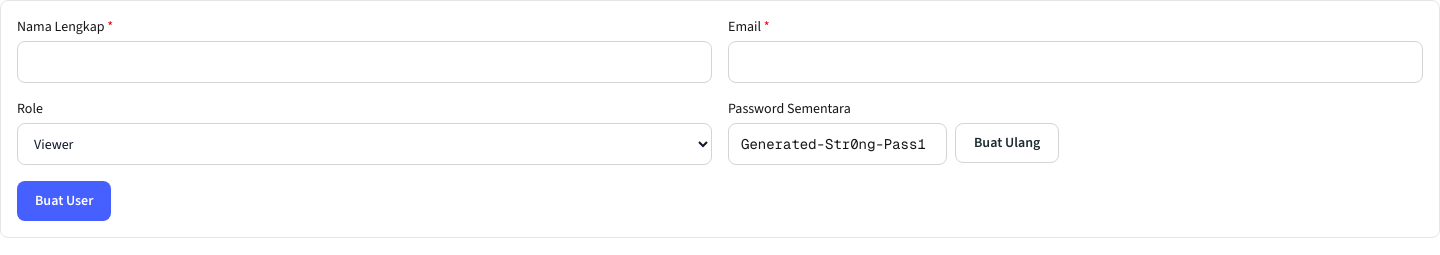
Test: AddInternalUserForm — temporary password field › Buat Ulang issues a fresh candidate and replaces the field's value
Expected: the field showing "Generated-Str0ng-Pass1" is shown, [728,123,947,165]
Click the button "Buat Ulang" at (1007, 143), box [955,123,1059,163]
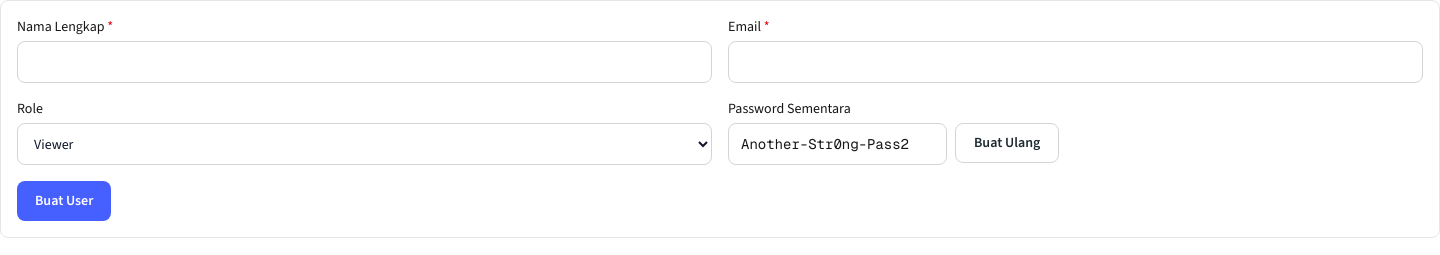
Result: the field showing "Another-Str0ng-Pass2" is shown at [728,123,947,165]
